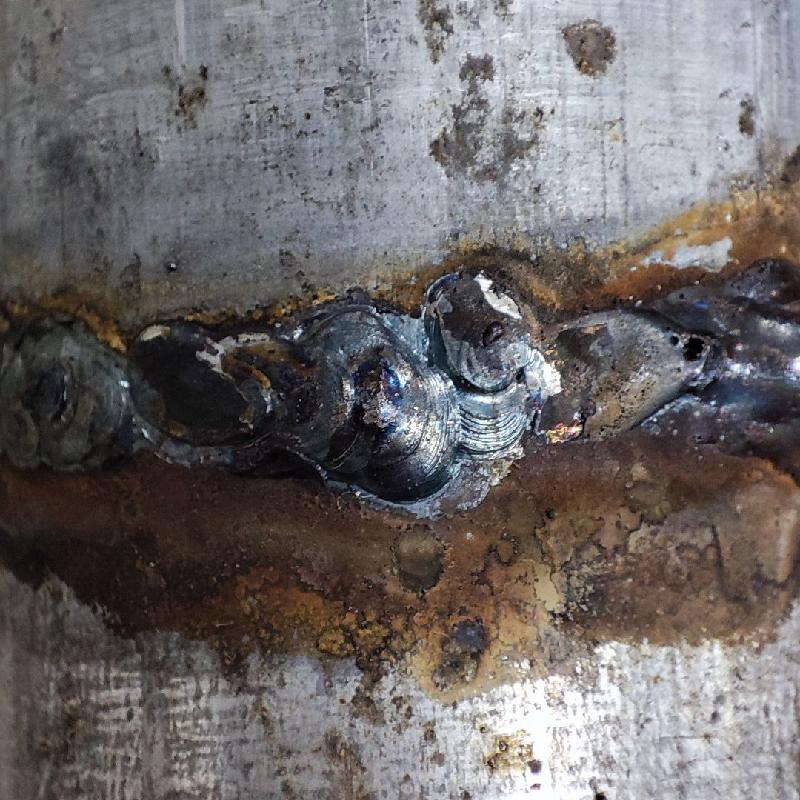Not_fully_soldered: (433, 271, 713, 455)
Surface_pores: (646, 316, 715, 373)
Weld: (668, 244, 799, 472)
wrong_size: (0, 303, 459, 501)
